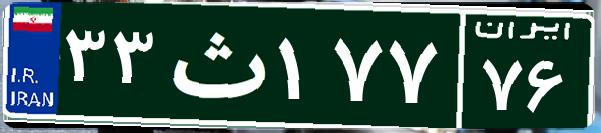1: (273, 28, 330, 110)
3: (57, 26, 110, 107), (110, 28, 158, 105)
6: (525, 38, 570, 115)
7: (385, 28, 445, 110), (330, 28, 385, 110), (475, 38, 525, 113)
ث: (158, 15, 273, 115)
